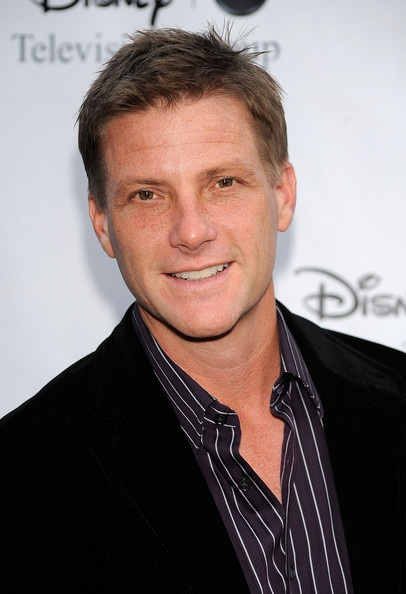bad: (97, 139, 283, 325)
